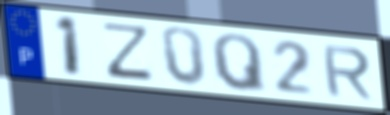0: (160, 25, 209, 89)
1: (54, 14, 86, 80)
2: (271, 39, 315, 97)
Q: (210, 32, 270, 95)
R: (320, 44, 375, 102)
Z: (103, 21, 155, 82)
